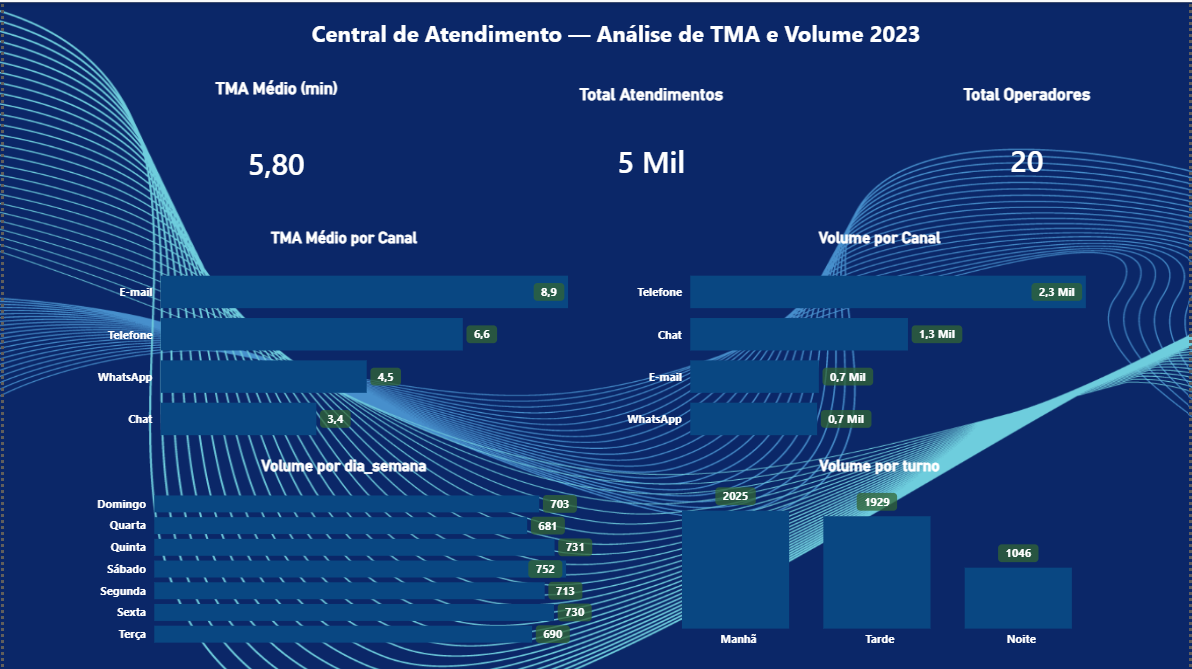

The dashboard page shown, as its layout file describes it:
{"tool":"powerbi","page":{"name":"Página 1","canvas":[1280,720],"ordinal":0},"visuals":[{"type":"cardVisual","title":"TMA Médio (min)","fields":{"Data":["central_atendimento_v2 (2).TMA Médio (min)"]},"box":[153.8,82.6,280.1,161.9],"z":0},{"type":"cardVisual","title":"Total Operadores","fields":{"Data":["Count(central_atendimento_v2 (2).agente)"]},"box":[965.1,89.1,278.5,140.9],"z":1000},{"type":"cardVisual","title":"Total Atendimentos","fields":{"Data":["CountNonNull(central_atendimento_v2 (2).status)"]},"box":[558.6,89.1,280.1,142.5],"z":2000},{"type":"clusteredBarChart","title":"TMA Médio por Canal","fields":{"Category":["central_atendimento_v2 (2).canal"],"Y":["central_atendimento_v2 (2).TMA Médio (min)"]},"box":[94.5,243.8,546.1,247.6],"z":3000},{"type":"barChart","title":"Volume por Canal","fields":{"Category":["central_atendimento_v2 (2).canal"],"Y":["CountNonNull(central_atendimento_v2 (2).status)"]},"box":[665.2,243.8,559.4,247.6],"z":4000},{"type":"clusteredColumnChart","title":"Volume por turno","fields":{"Category":["central_atendimento_v2 (2).turno"],"Y":["CountNonNull(central_atendimento_v2 (2).status)"]},"box":[665.2,491.3,559.4,215.4],"z":5000},{"type":"clusteredBarChart","title":"Volume por dia_semana","fields":{"Category":["central_atendimento_v2 (2).dia_semana"],"Y":["CountNonNull(central_atendimento_v2 (2).status)"]},"box":[94.5,491.3,546.1,215.4],"z":6000},{"type":"textbox","box":[327.1,11.3,675.2,50.2],"z":7000}]}

Visuals, with their boxes in screenshot pixels (x1, y1, x2, y2), scaled from the page's 1280x720 canvas onto the 1192x669 screenshot:
"TMA Médio (min)" cardVisual: crop(143, 77, 404, 227)
"Total Operadores" cardVisual: crop(899, 83, 1158, 214)
"Total Atendimentos" cardVisual: crop(520, 83, 781, 215)
"TMA Médio por Canal" clusteredBarChart: crop(88, 227, 597, 457)
"Volume por Canal" barChart: crop(619, 227, 1140, 457)
"Volume por turno" clusteredColumnChart: crop(619, 456, 1140, 657)
"Volume por dia_semana" clusteredBarChart: crop(88, 456, 597, 657)
textbox: crop(305, 10, 933, 57)
